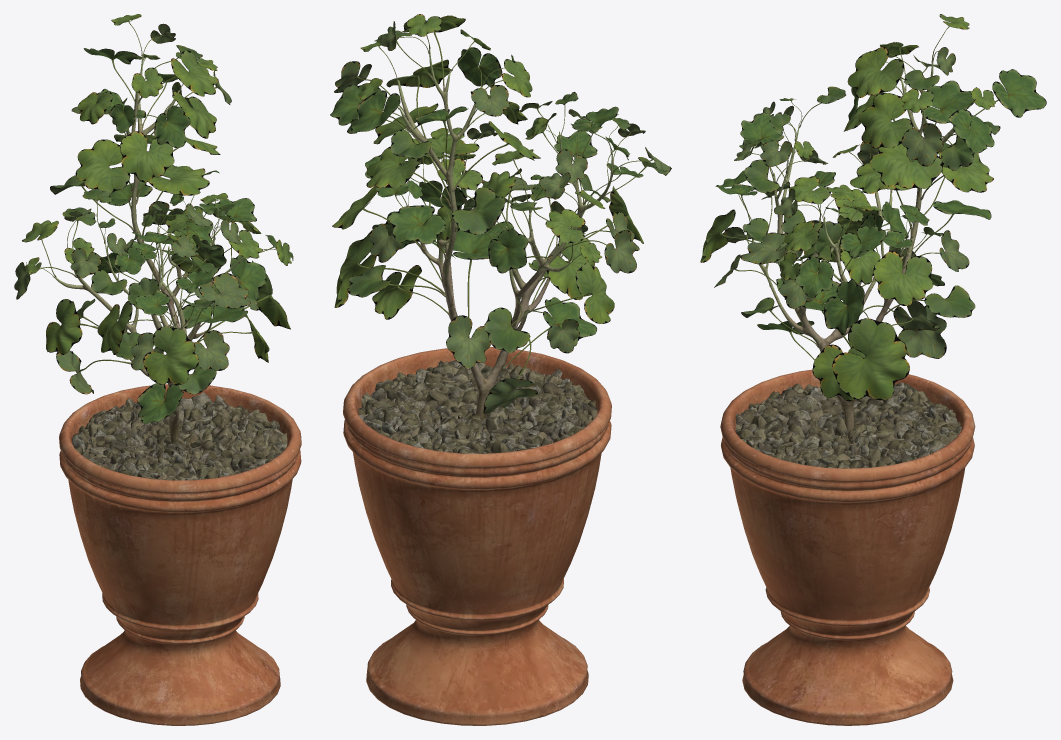
The model's file is potted_plant_01.glb.
The picture shows the model from 3 angles, left to right: view 1: azimuth 30°, elevation 25°; view 2: azimuth 150°, elevation 25°; view 3: azimuth 270°, elevation 25°; orthographic projection. The views are drawn at different scales.
Parts seen in each view (by area): view 1: potted_plant_01_stem, potted_plant_01_leaves; view 2: potted_plant_01_stem, potted_plant_01_leaves; view 3: potted_plant_01_stem, potted_plant_01_leaves.
Part boxes in pixels (bbox=[...]): potted_plant_01_stem: bbox=[54, 54, 301, 725]; potted_plant_01_leaves: bbox=[14, 14, 293, 423]; potted_plant_01_stem: bbox=[343, 49, 612, 725]; potted_plant_01_leaves: bbox=[330, 14, 671, 414]; potted_plant_01_stem: bbox=[720, 55, 975, 725]; potted_plant_01_leaves: bbox=[700, 14, 1046, 401].
Bounding box in the file's own units: 0.5874 × 1.34 × 0.6336.
Materials: 2 (2 with a texture image).
